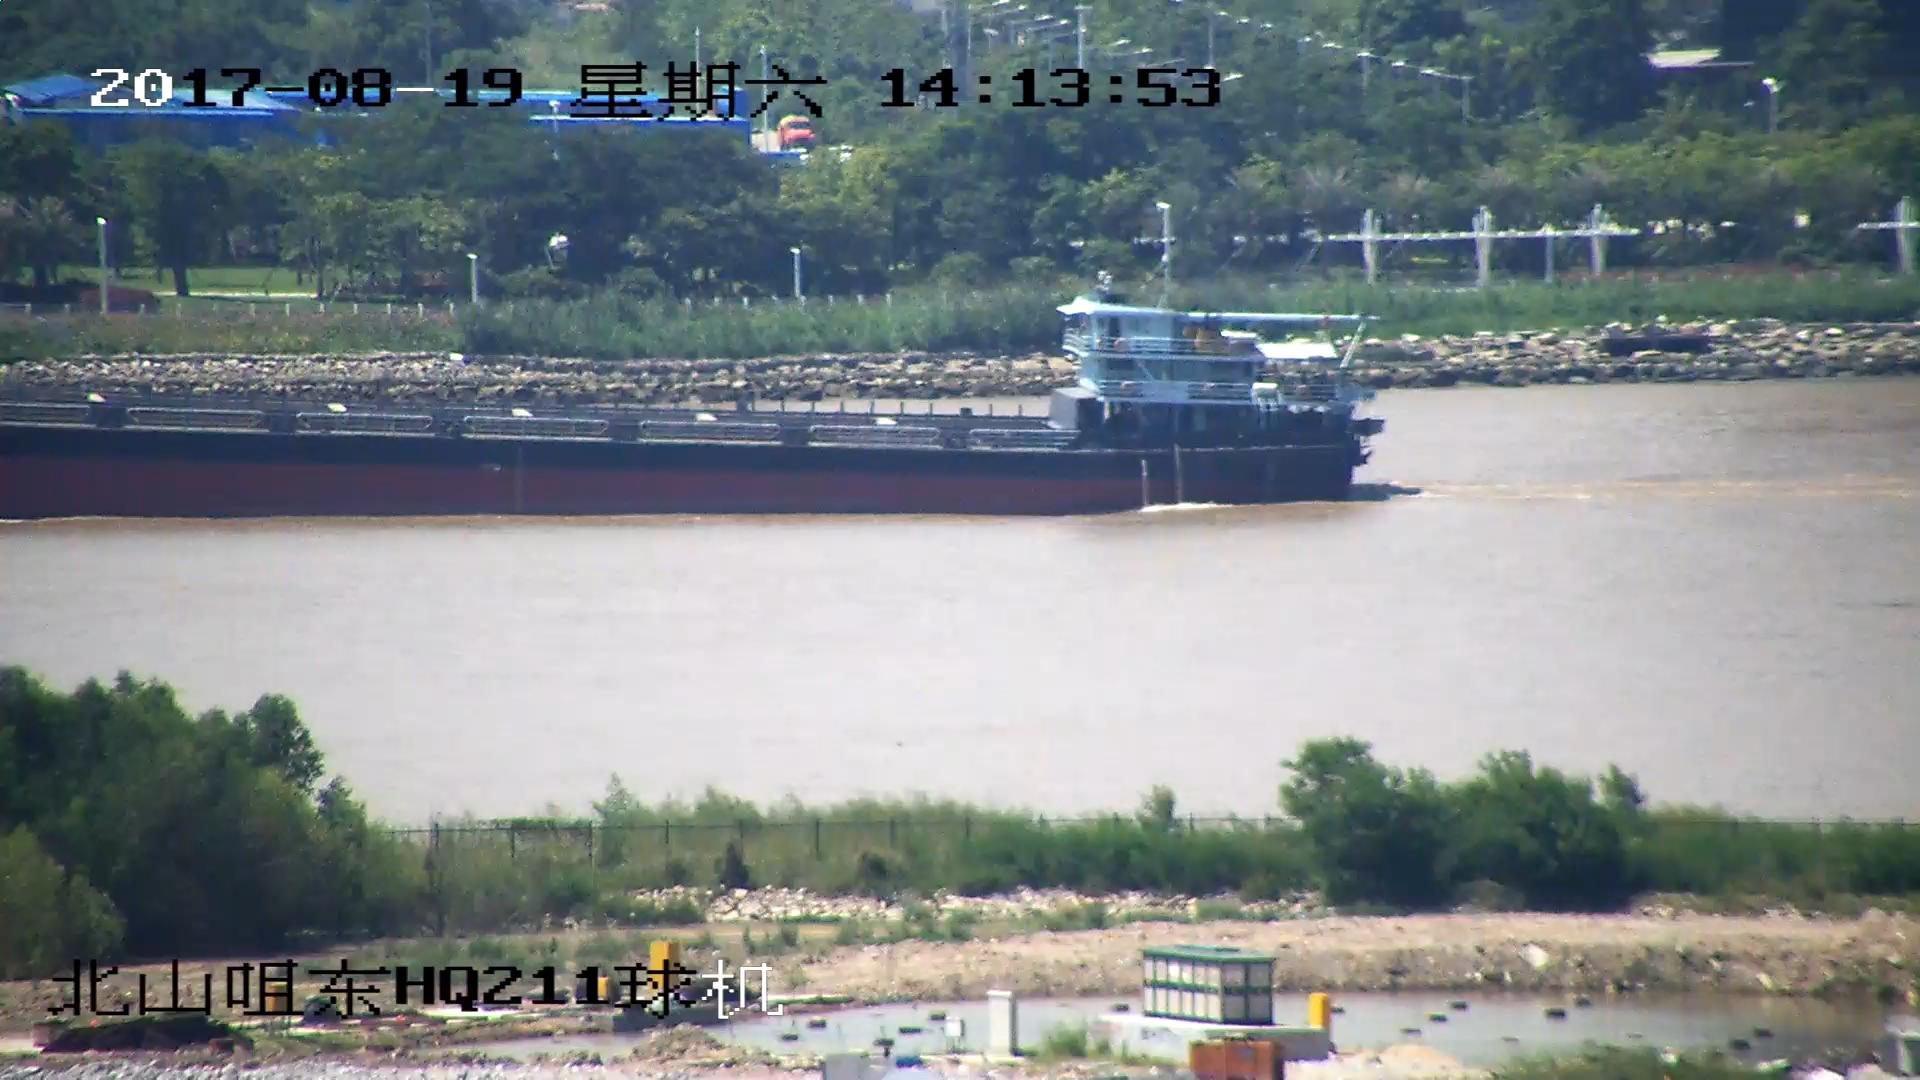bulk cargo carrier: (1, 280, 1397, 519)
